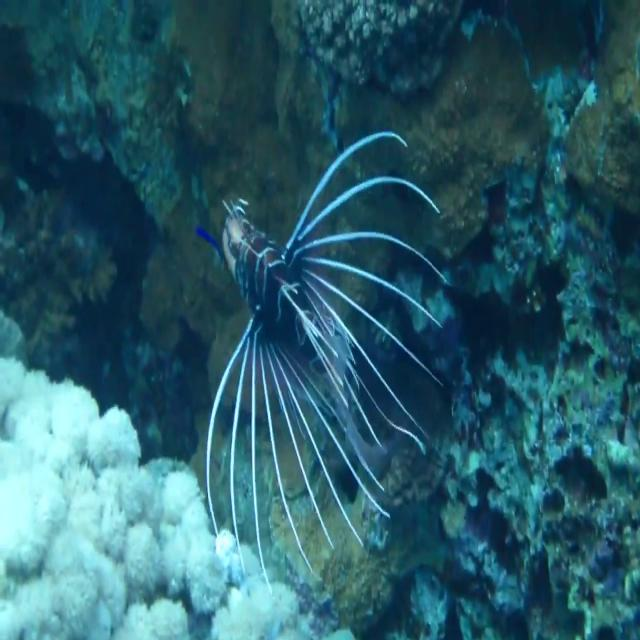Aslan Baligi: (195, 128, 453, 596)
